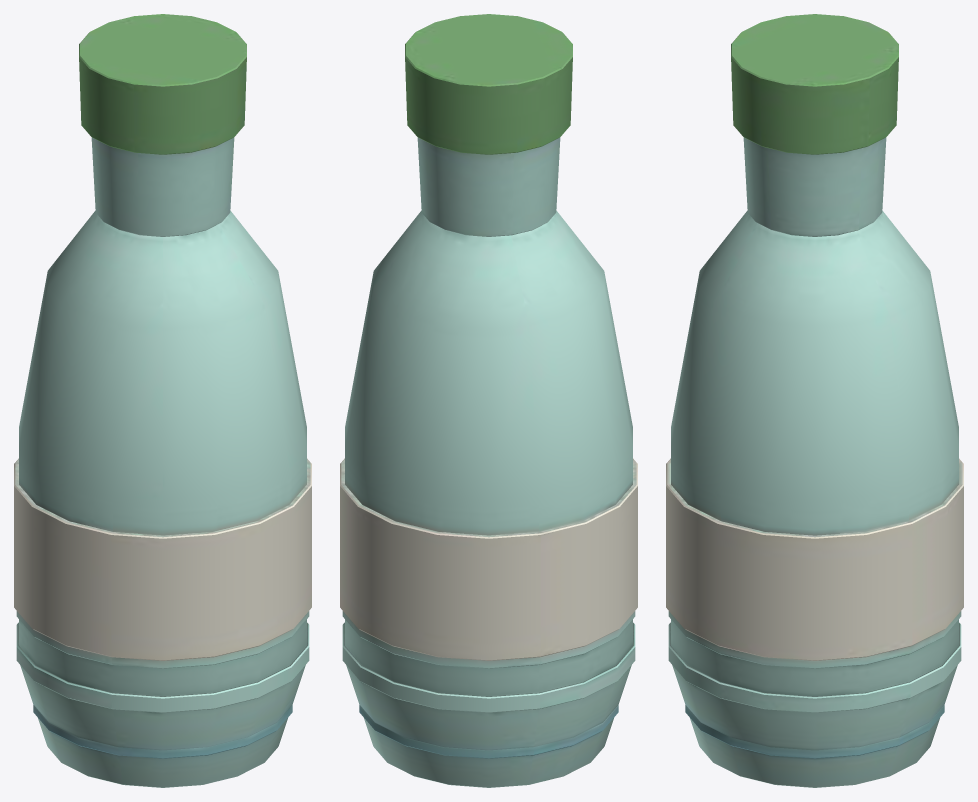
Rendered from IT_water_bottle.glb.
3 renders of one model, left to right at view 1: azimuth 30°, elevation 25°; view 2: azimuth 150°, elevation 25°; view 3: azimuth 270°, elevation 25°, orthographic.
Visible parts, largest first — view 1: IT_water_bottle; view 2: IT_water_bottle; view 3: IT_water_bottle.
Part boxes in pixels (x1,y1,x2,y2): IT_water_bottle: (14,14,311,787); IT_water_bottle: (340,14,637,787); IT_water_bottle: (666,14,963,787).
Size of the model in its own units: 0.31 by 0.78 by 0.3053.
1 material, 1 textured.
